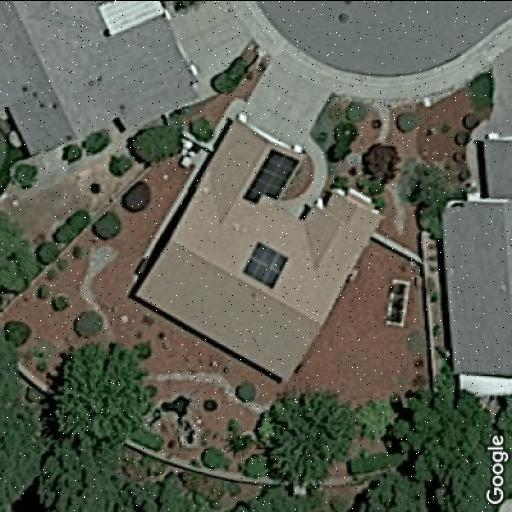solar-panel: (239, 147, 299, 207), (240, 239, 291, 289)
